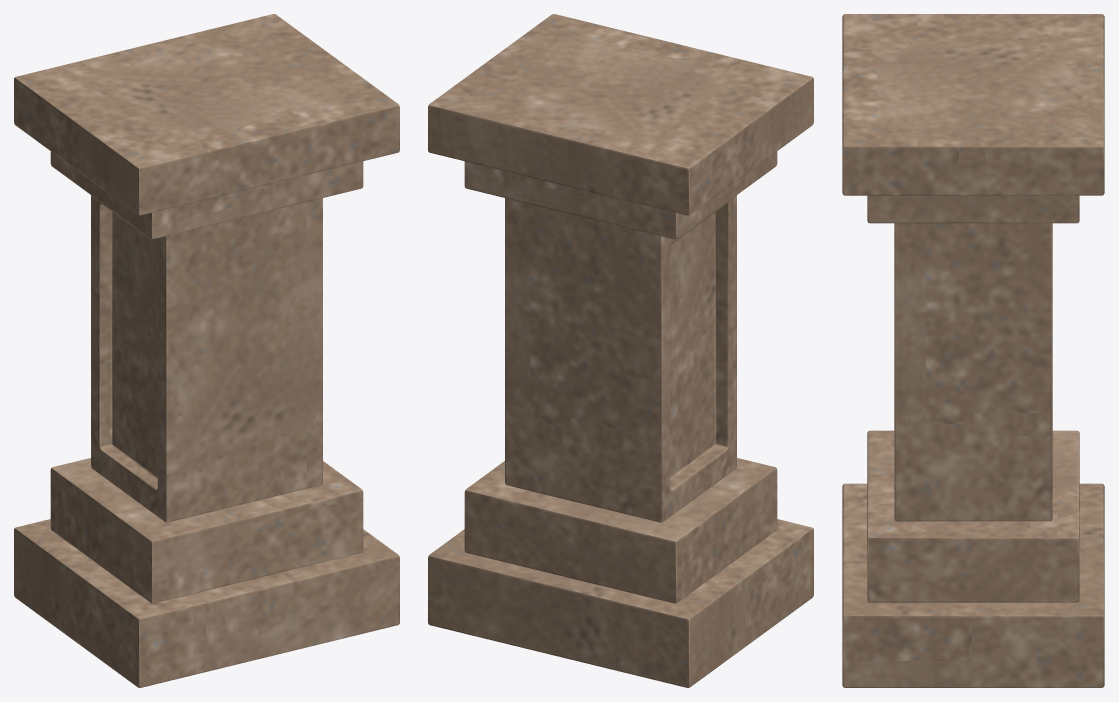
The model's file is Level_02_Object.fbx.
3 renders of one model, left to right at view 1: azimuth 30°, elevation 25°; view 2: azimuth 150°, elevation 25°; view 3: azimuth 270°, elevation 25°, orthographic. The views are drawn at different scales.
Visible parts, largest first — view 1: object_Woodcylinder; view 2: object_Woodcylinder; view 3: object_Woodcylinder.
Part boxes in pixels (x1,y1,x2,y2): object_Woodcylinder: (14,14,399,687); object_Woodcylinder: (428,14,813,687); object_Woodcylinder: (842,14,1104,687).
Size of the model in its own units: 113 by 215 by 94.2.
